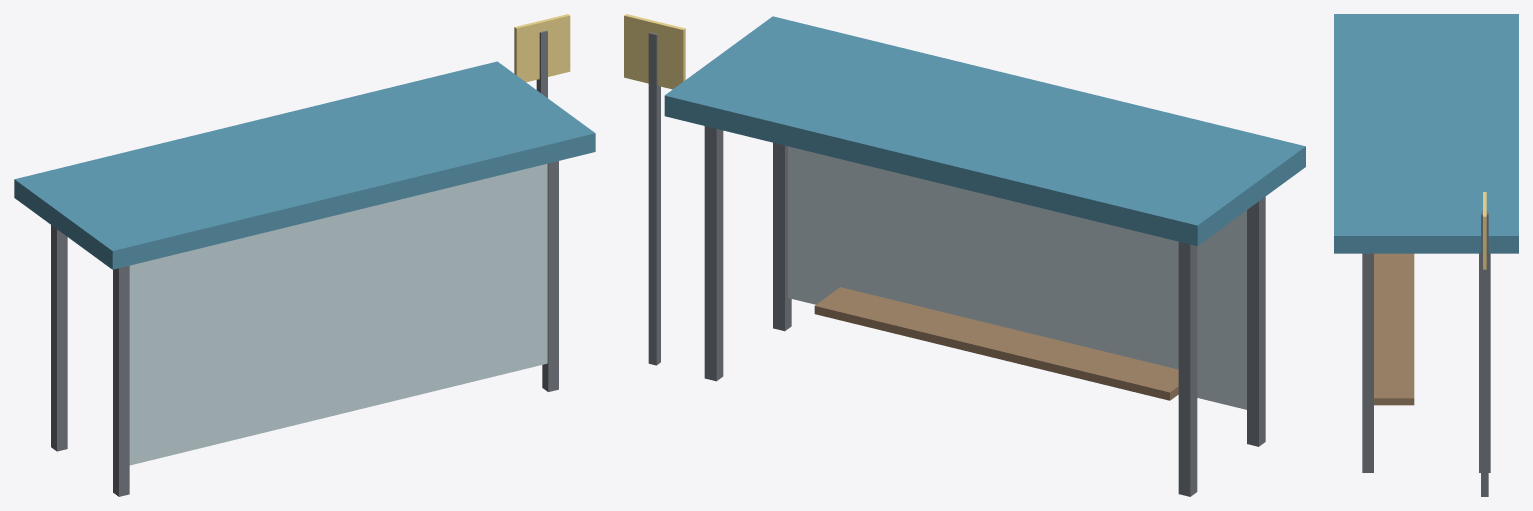
Rendered from bus_stop.glb.
3 views of the same model, side by side, from view 1: azimuth 30°, elevation 25°; view 2: azimuth 150°, elevation 25°; view 3: azimuth 270°, elevation 25° (orthographic). The views are drawn at different scales.
Visible parts, largest first — view 1: BusStop; view 2: BusStop; view 3: BusStop.
Boxes of the visible parts, left/top/right/bottom form: BusStop: left=14, top=14, right=595, bottom=496; BusStop: left=624, top=14, right=1305, bottom=496; BusStop: left=1334, top=14, right=1518, bottom=496.
Bounding box in the file's own units: 6 × 3.3 × 1.9.
